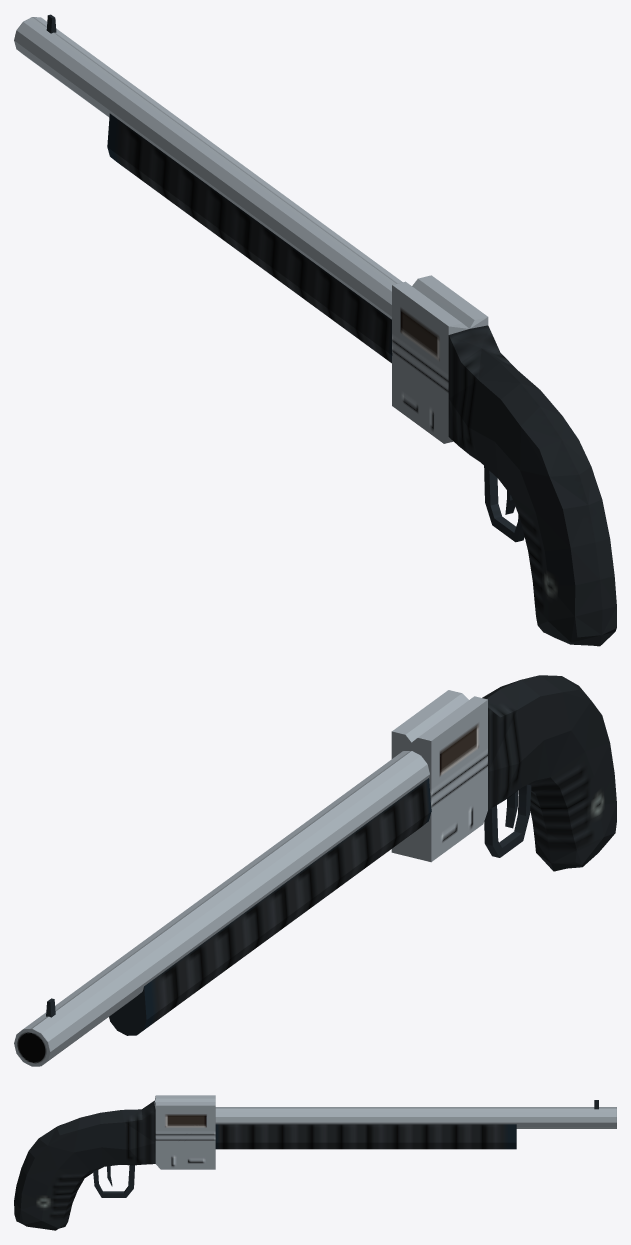
The model's file is shotgun.obj.
The picture shows the model from 3 angles, top to bottom: view 1: azimuth 30°, elevation 25°; view 2: azimuth 150°, elevation 25°; view 3: azimuth 270°, elevation 25°; orthographic projection. The views are drawn at different scales.
Bounding box in the file's own units: 0.255 × 1.05 × 4.5.
